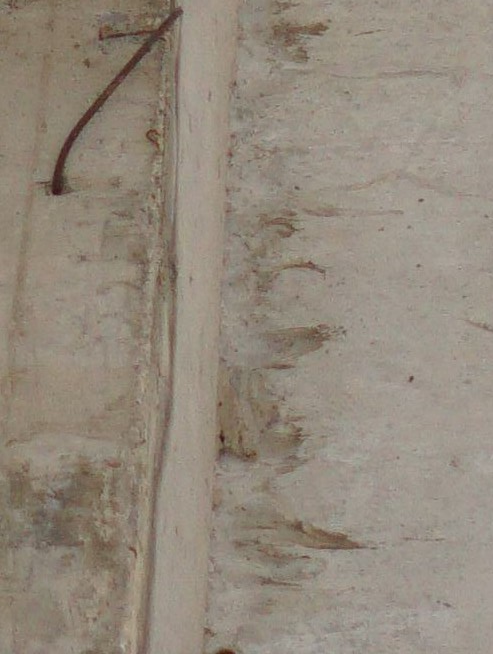Exposed reinforcement: (52, 5, 184, 196)
